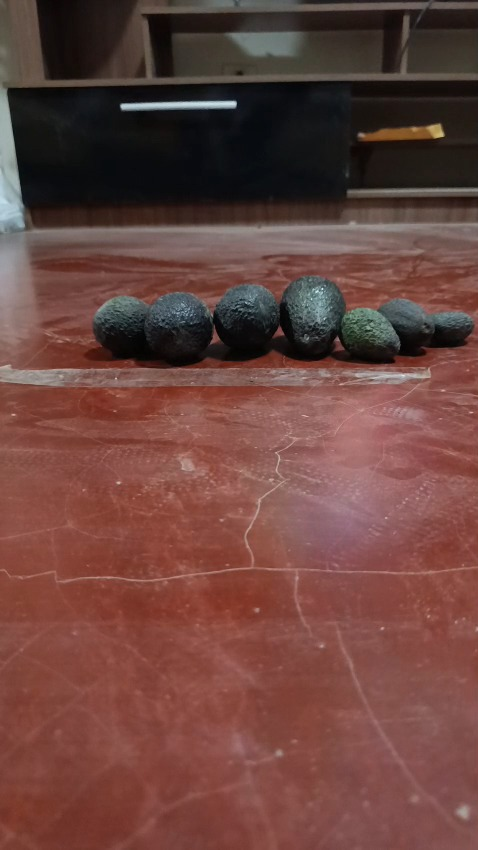Primera: (279, 274, 346, 357), (144, 291, 212, 363), (213, 282, 280, 352), (91, 294, 150, 357)
Segunda: (339, 306, 399, 361), (376, 297, 433, 354)
Tercera: (428, 311, 473, 347)
